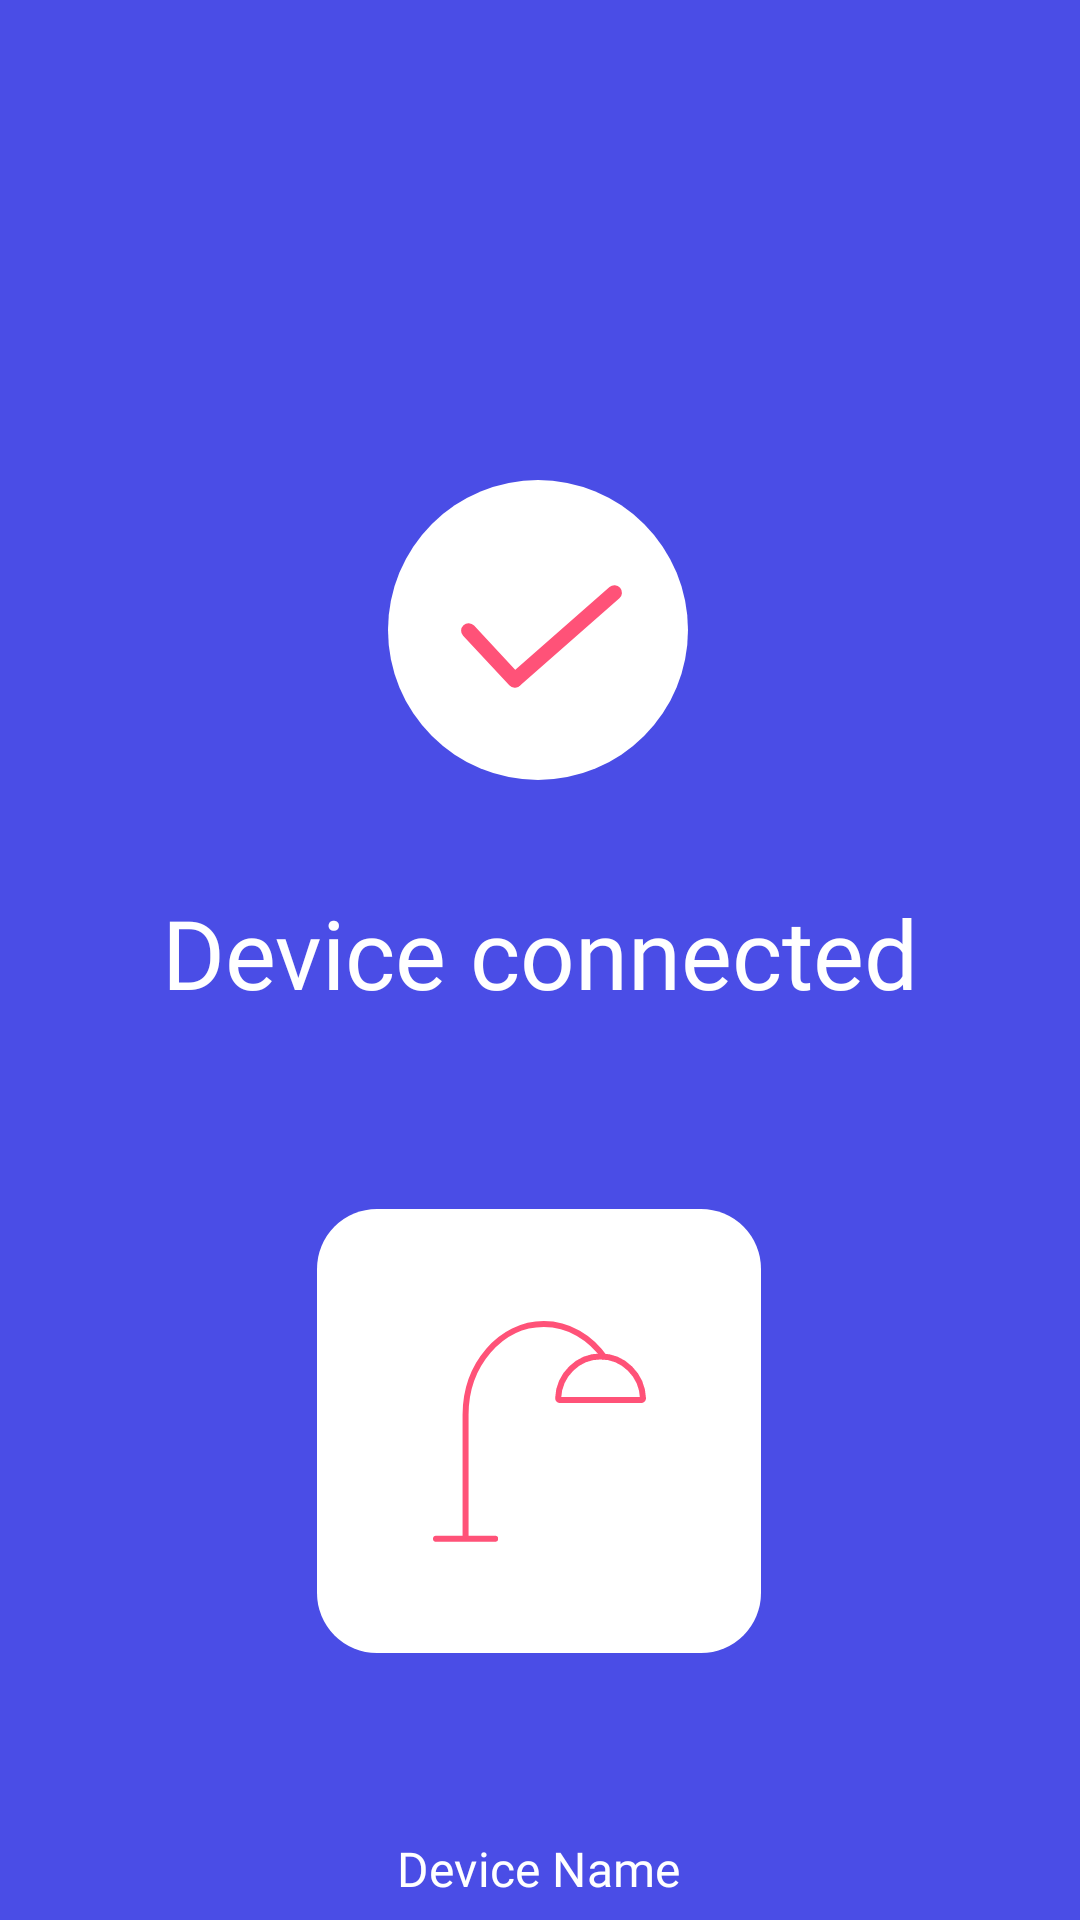

Screen size 1080px x 1920px. Icon name, then its box in pixels as (x1, y1, x2, y2):
lamp: (433, 1321, 646, 1542)
tick: (388, 480, 688, 780)
